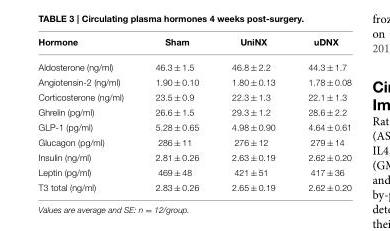table: (37, 37, 350, 192)
table column: (37, 37, 138, 192), (214, 37, 291, 192), (138, 37, 214, 192), (291, 37, 350, 192)
table column header: (37, 37, 350, 54)
table row: (37, 54, 350, 74), (37, 37, 350, 54), (37, 164, 350, 180), (37, 74, 350, 89), (37, 89, 350, 104), (37, 104, 350, 119), (37, 119, 350, 134), (37, 134, 350, 149), (37, 149, 350, 164), (37, 180, 350, 192)
